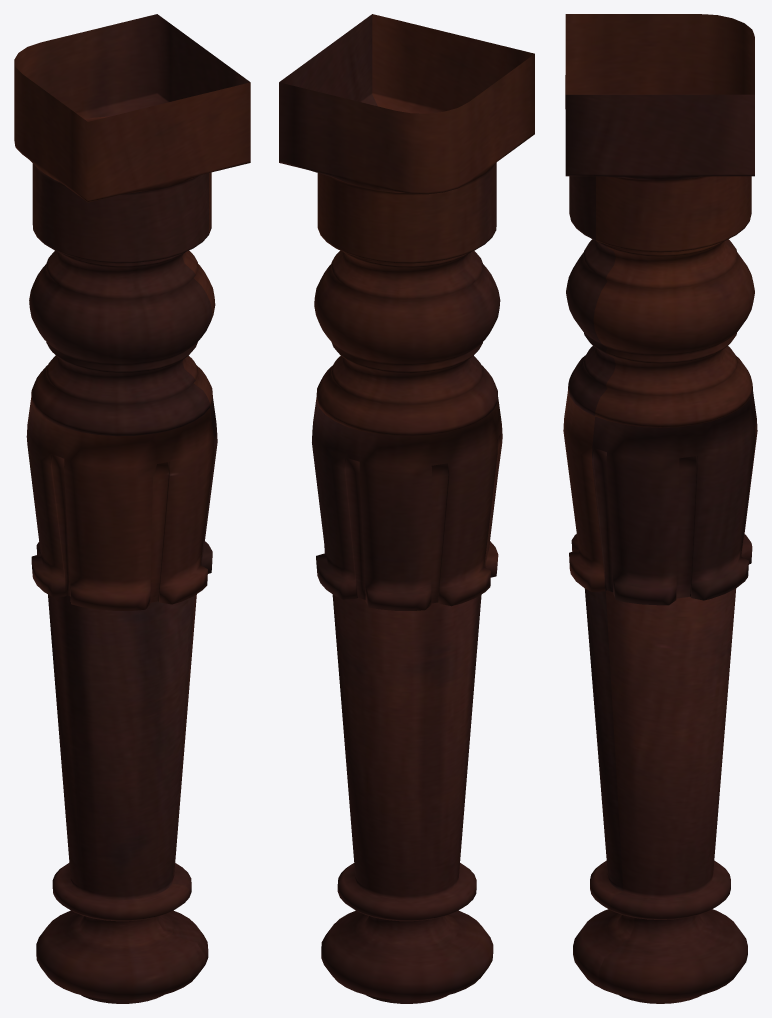
The model's file is legg.fbx.
The picture shows the model from 3 angles, left to right: view 1: azimuth 30°, elevation 25°; view 2: azimuth 150°, elevation 25°; view 3: azimuth 270°, elevation 25°; orthographic projection.
Parts seen in each view (by area): view 1: legg; view 2: legg; view 3: legg.
Part boxes in pixels (x1,y1,x2,y2): legg: [14, 14, 250, 1003]; legg: [279, 14, 534, 1003]; legg: [563, 14, 757, 1003].
Bounding box in the file's own units: 80.76 × 426 × 80.76.
Materials: 1 (1 with a texture image).
